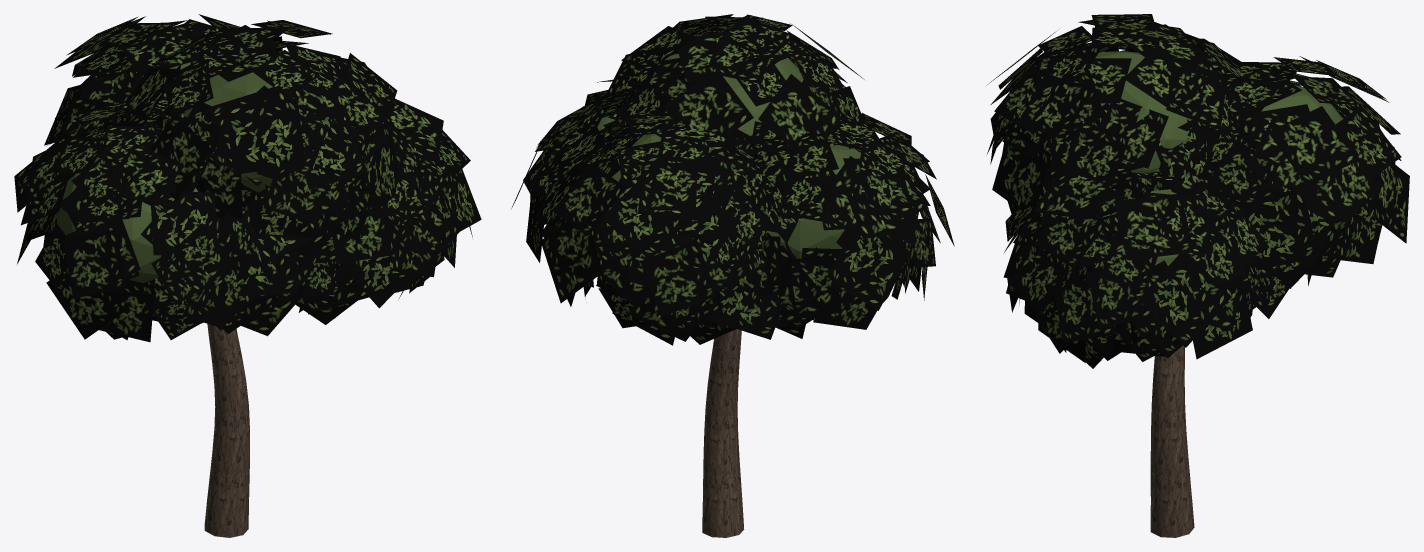
Rendered from broadleaf.glb.
3 views of the same model, side by side, from view 1: azimuth 30°, elevation 25°; view 2: azimuth 150°, elevation 25°; view 3: azimuth 270°, elevation 25° (orthographic). The views are drawn at different scales.
Visible parts, largest first — view 1: 広葉樹-葉, 広葉樹-樹皮, 広葉樹-葉の奥; view 2: 広葉樹-葉, 広葉樹-樹皮, 広葉樹-葉の奥; view 3: 広葉樹-葉, 広葉樹-樹皮, 広葉樹-葉の奥.
Part boxes in pixels (<box>): 広葉樹-葉: <box>14,14,481,342</box>; 広葉樹-樹皮: <box>204,323,249,537</box>; 広葉樹-葉の奥: <box>57,51,289,282</box>; 広葉樹-葉: <box>511,14,954,345</box>; 広葉樹-樹皮: <box>702,329,744,537</box>; 広葉樹-葉の奥: <box>597,53,860,258</box>; 広葉樹-葉: <box>986,14,1409,368</box>; 広葉樹-樹皮: <box>1150,345,1194,537</box>; 広葉樹-葉の奥: <box>1095,51,1342,265</box>.
Bounding box in the file's own units: 6.05 × 6.92 × 5.29.
Materials: 3 (2 with a texture image).
